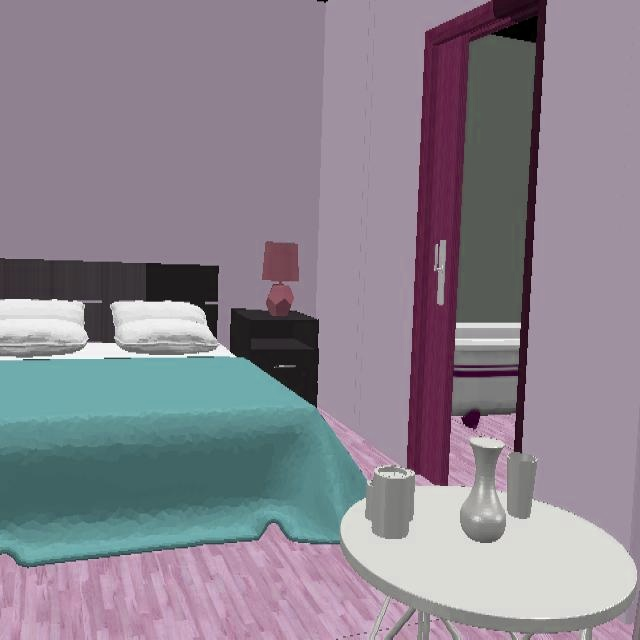bed: (0, 258, 368, 570)
lamp: (262, 242, 300, 317)
nighttable: (230, 312, 318, 405)
table: (341, 486, 640, 639)
